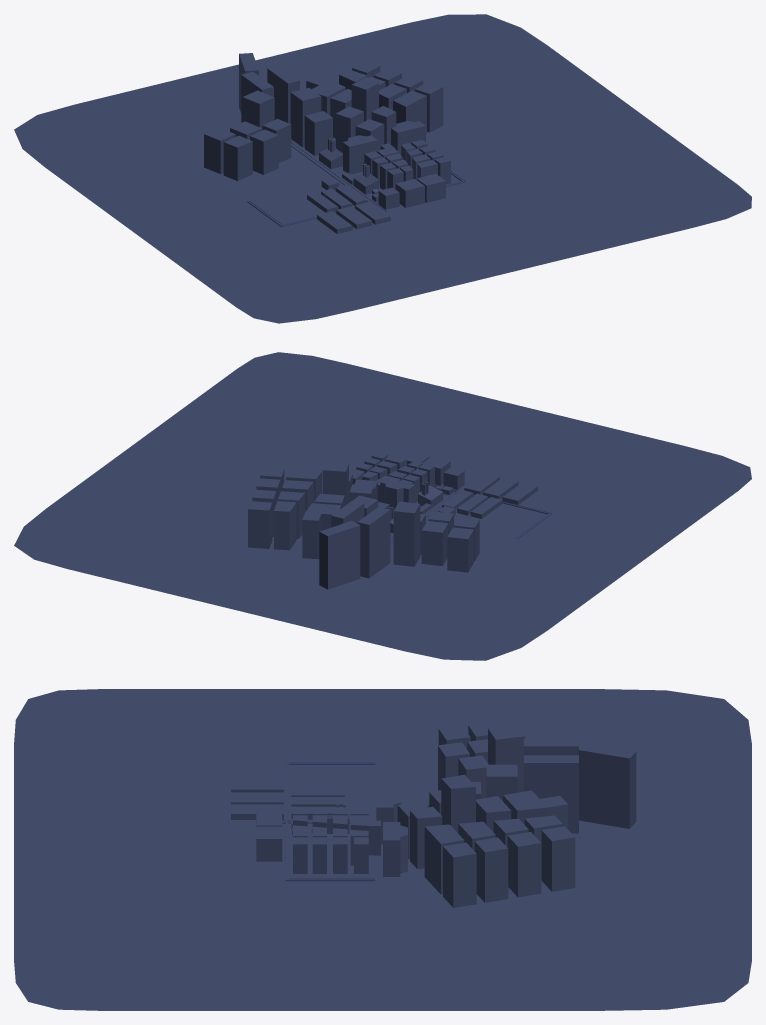
File: metro basic demo.fbx
3 views of the same model, one above another, from view 1: azimuth 30°, elevation 25°; view 2: azimuth 150°, elevation 25°; view 3: azimuth 270°, elevation 25° (orthographic). The views are drawn at different scales.
Visible parts, largest first — view 1: Plane, Cube.070, Cube.024, Cube.063, Cube.062, Cube.068, Cube.057, Cube.066, Cube.053, Cube.061, Cube.065, Cube.047 (+7 smaller); view 2: Plane, Cube.070, Cube.065, Cube.062, Cube.058, Cube.060, Cube.067, Cube.069, Cube.059, Cube.061, Cube.063, Cube.024 (+3 smaller); view 3: Plane, Cube.070, Cube.024, Cube.060, Cube.056, Cube.048, Cube.052, Cube.062, Cube.050, Cube.065, Cube.047, Cube.058 (+18 smaller).
Boxes of the visible parts, box(x1,y1,x2,y2) form: Plane: box(14, 14, 751, 323); Cube.070: box(239, 53, 299, 123); Cube.024: box(343, 121, 425, 174); Cube.063: box(378, 174, 445, 209); Cube.062: box(317, 201, 390, 233); Cube.068: box(223, 135, 252, 180); Cube.057: box(290, 87, 321, 147); Cube.066: box(250, 129, 278, 174); Cube.053: box(304, 111, 332, 155); Cube.061: box(307, 185, 366, 212); Cube.065: box(242, 90, 274, 130); Cube.047: box(393, 90, 426, 134); Plane: box(14, 352, 751, 660); Cube.070: box(319, 500, 390, 589); Cube.065: box(393, 501, 420, 566); Cube.062: box(464, 473, 537, 504); Cube.058: box(302, 503, 341, 559); Cube.060: box(248, 501, 272, 548); Cube.067: box(421, 521, 448, 565); Cube.069: box(447, 527, 473, 572); Cube.059: box(274, 501, 296, 550); Cube.061: box(442, 490, 501, 518); Cube.063: box(402, 451, 464, 489); Cube.024: box(349, 471, 415, 509); Plane: box(14, 689, 751, 1010); Cube.070: box(524, 738, 636, 833); Cube.024: box(376, 789, 407, 876); Cube.060: box(541, 826, 575, 891); Cube.056: box(507, 832, 541, 897); Cube.048: box(443, 842, 476, 907); Cube.052: box(474, 837, 508, 902); Cube.062: box(231, 779, 283, 819); Cube.050: box(441, 774, 475, 833); Cube.065: box(488, 724, 525, 792); Cube.047: box(424, 824, 464, 894); Cube.058: box(503, 790, 567, 828).
Bounding box in the file's own units: 132161 × 15994 × 128115.
